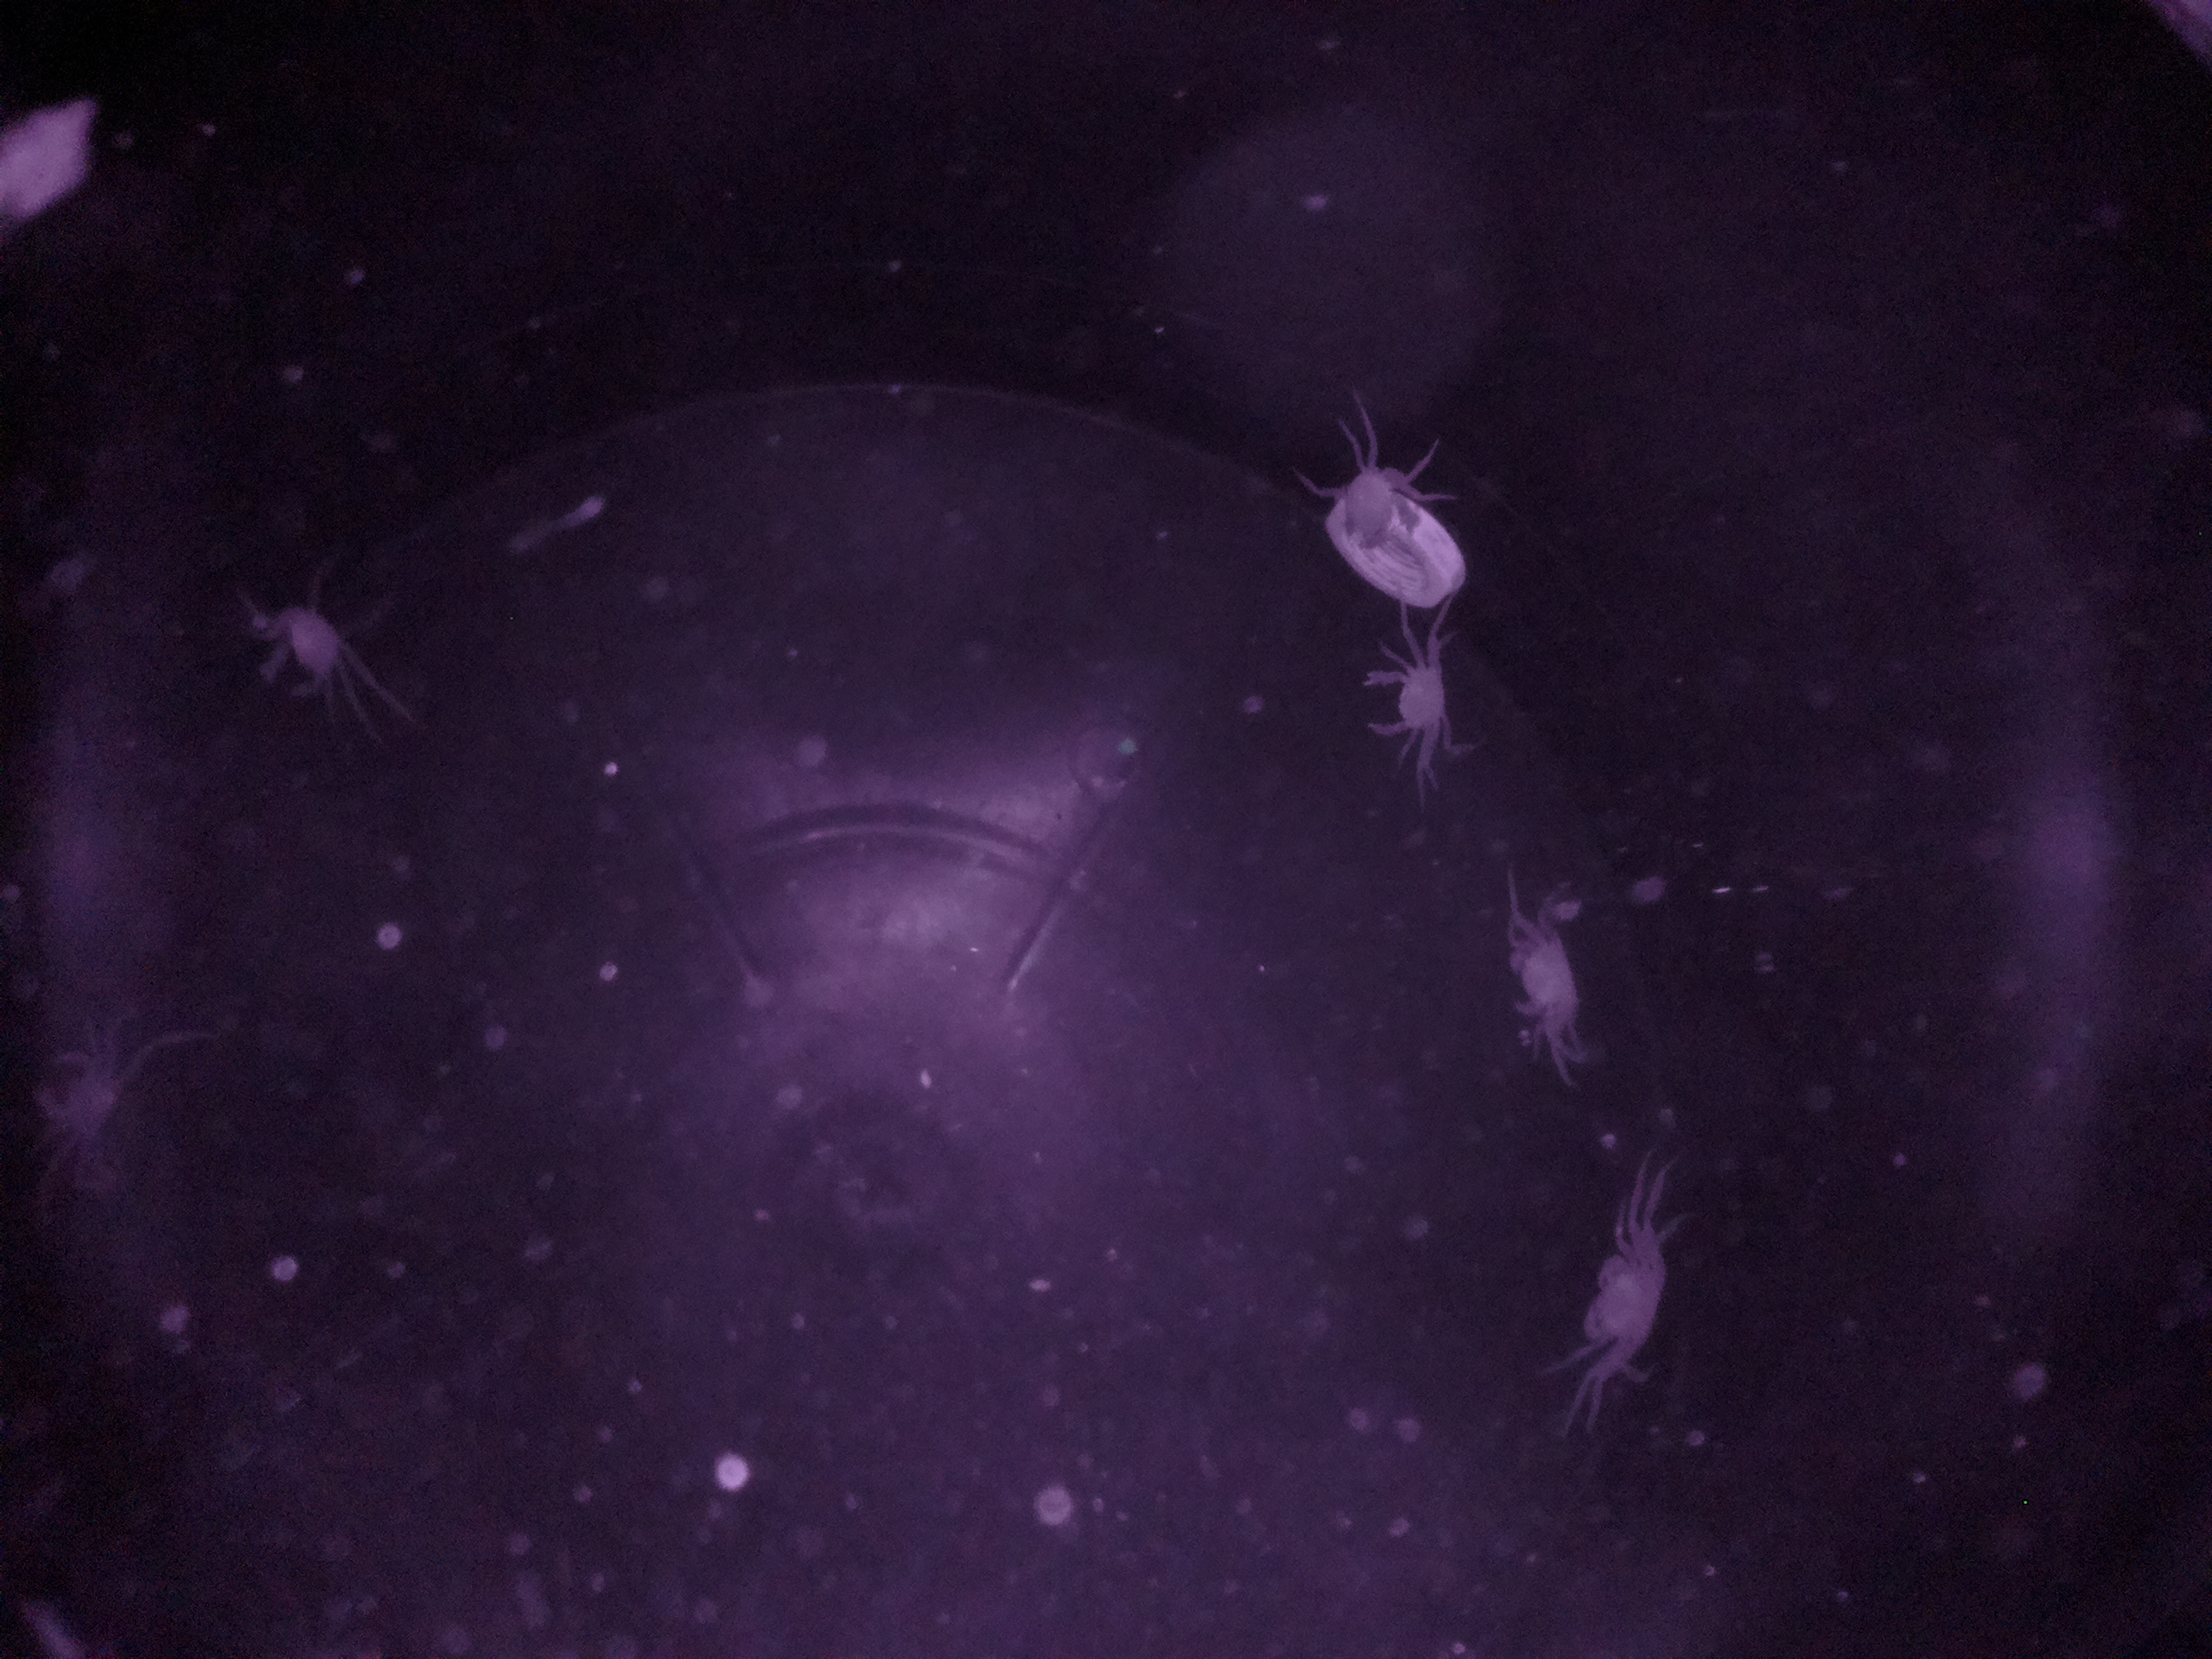Crab: (1561, 1220, 1693, 1389), (1339, 636, 1468, 762), (1494, 917, 1618, 1046)
